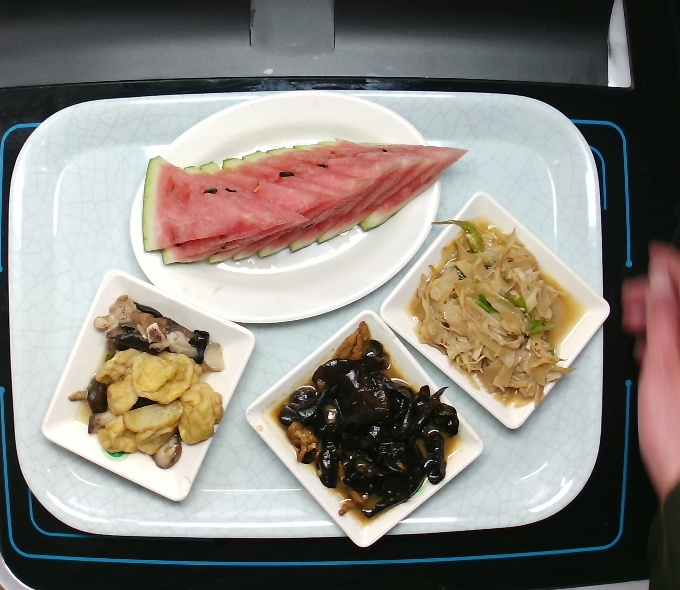wcq-LuSun: (398, 217, 579, 411)
wcq-MuErChaoRou: (275, 316, 461, 524)
wcq-XiGua: (134, 130, 469, 280)
wcq-YouPaoPaiGu: (58, 292, 234, 474)
